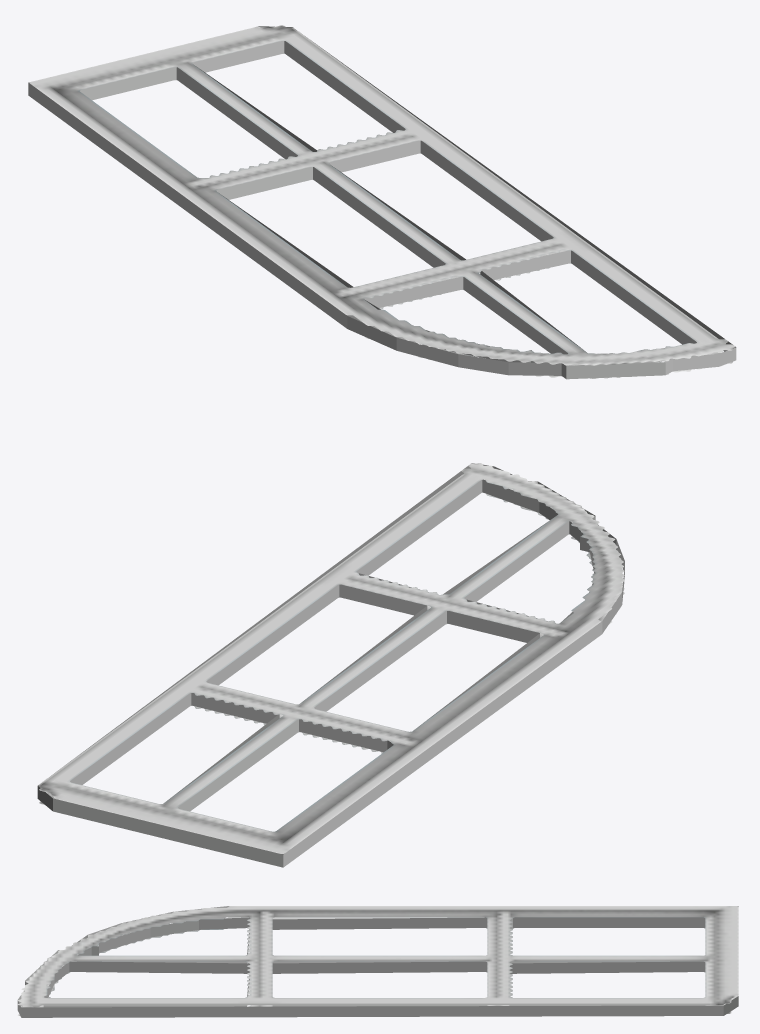
The model's file is pz_native_fixtures_windows_white_5_frame.obj.
3 renders of one model, top to bottom at view 1: azimuth 30°, elevation 25°; view 2: azimuth 150°, elevation 25°; view 3: azimuth 270°, elevation 25°, orthographic. The views are drawn at different scales.
Parts seen in each view (by area): view 1: pz_native_fixtures_windows_white_5_frame; view 2: pz_native_fixtures_windows_white_5_frame; view 3: pz_native_fixtures_windows_white_5_frame.
Boxes of the visible parts, x1,y1,x2,y2 form: pz_native_fixtures_windows_white_5_frame: [28, 25, 736, 379]; pz_native_fixtures_windows_white_5_frame: [37, 463, 624, 867]; pz_native_fixtures_windows_white_5_frame: [17, 906, 738, 1017].
Bounding box in the file's own units: 0.875 × 0.04 × 2.53.
1 material, 1 textured.
